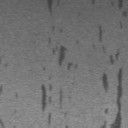red iron: (41, 37, 78, 124), (92, 25, 123, 128), (118, 0, 128, 30), (46, 0, 61, 14), (52, 25, 62, 32), (0, 118, 4, 128), (91, 0, 96, 4), (0, 84, 2, 94), (16, 93, 18, 98)
